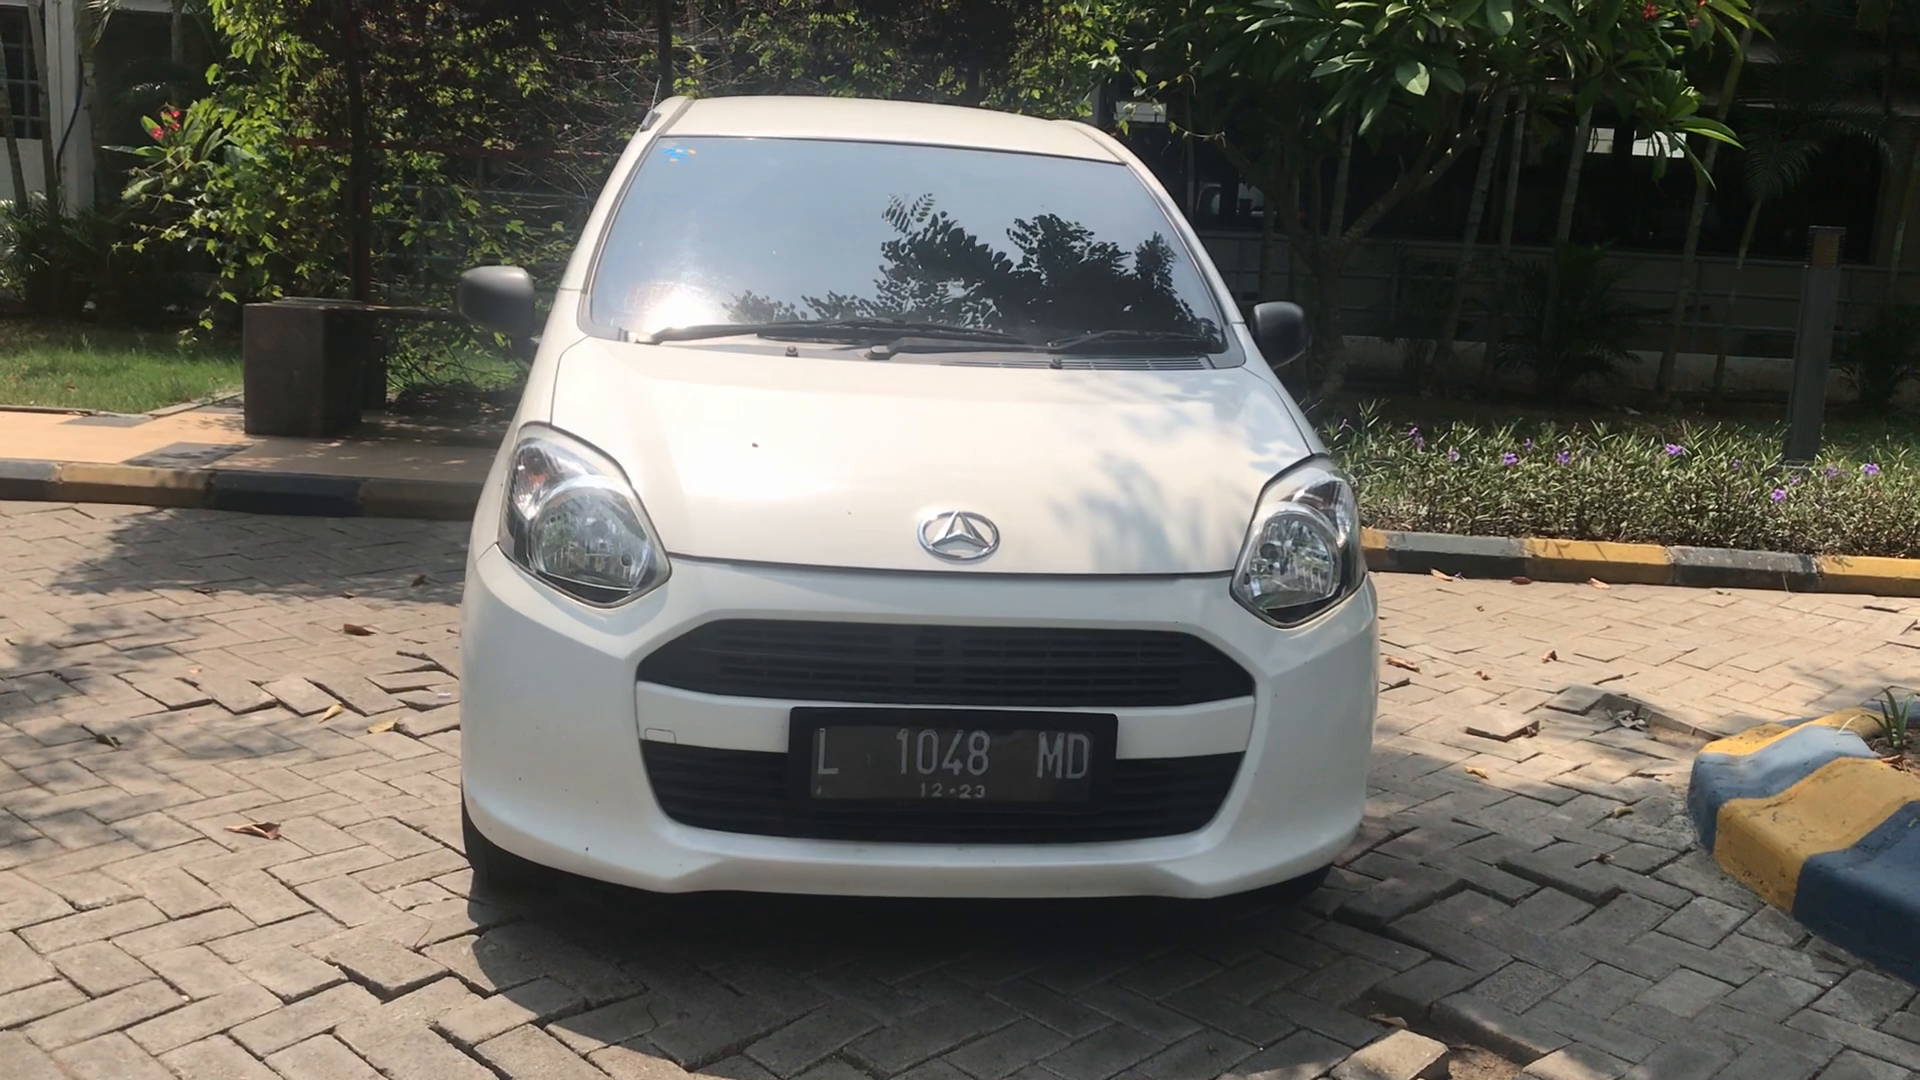plate: (807, 715, 1120, 817)
